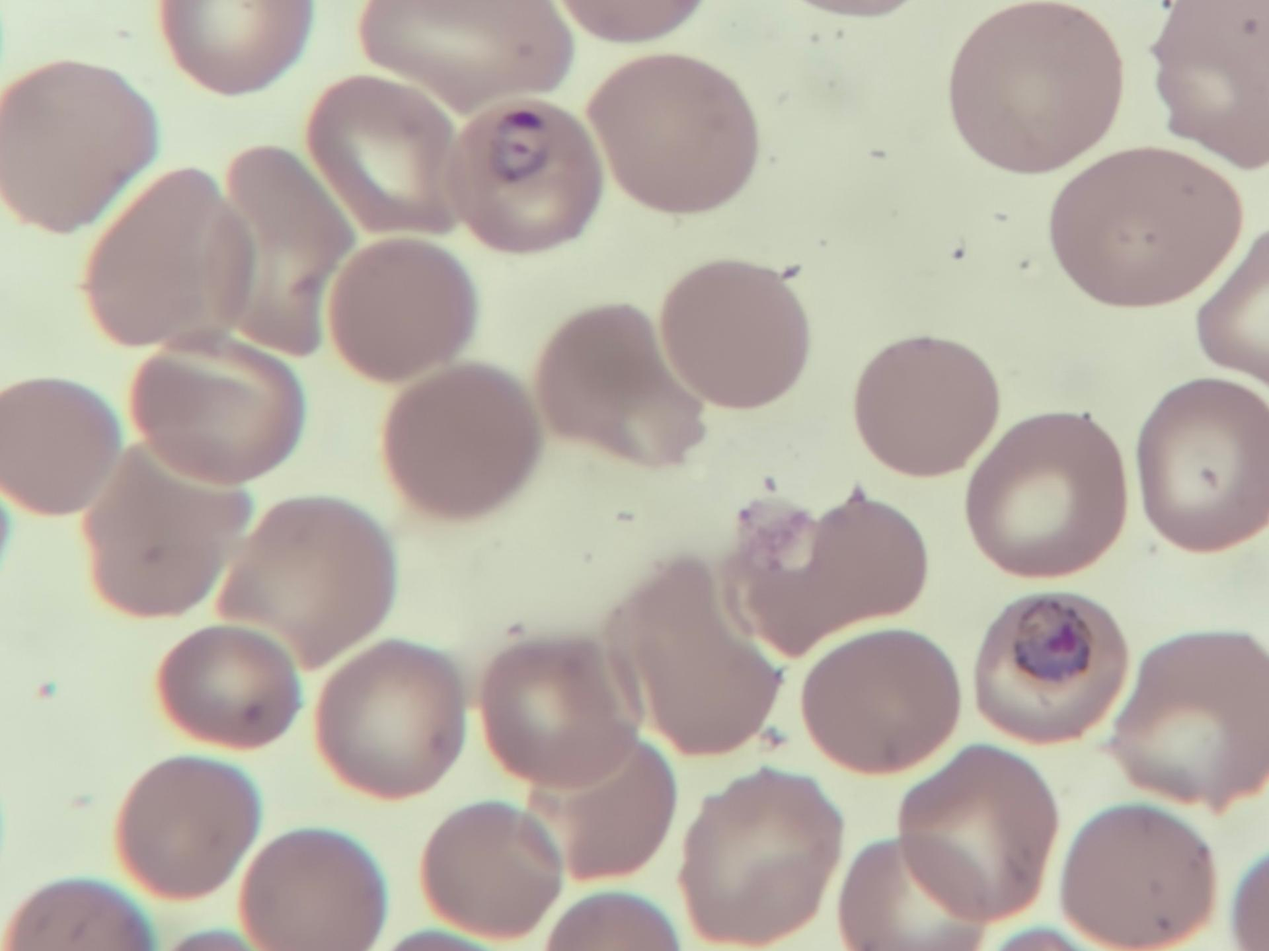Infected: (443, 96, 602, 251), (974, 591, 1127, 745)
Uninfected: (610, 559, 777, 753), (738, 494, 927, 660), (217, 496, 394, 669), (1051, 149, 1238, 308), (86, 170, 247, 348), (84, 448, 250, 617), (948, 5, 1118, 170), (1110, 634, 1269, 810), (679, 769, 841, 940), (900, 749, 1053, 925), (965, 412, 1126, 579), (533, 307, 704, 462), (222, 149, 354, 346), (1, 60, 154, 229), (129, 341, 301, 488), (307, 75, 465, 235), (381, 365, 541, 521), (595, 56, 756, 211), (1134, 382, 1269, 552), (315, 643, 464, 796), (481, 641, 637, 787), (660, 262, 811, 408), (803, 632, 958, 774), (364, 1, 566, 108), (327, 238, 479, 380), (1060, 808, 1212, 948), (115, 758, 259, 901), (853, 336, 1000, 475), (421, 805, 562, 939), (542, 742, 673, 879), (157, 625, 298, 749), (238, 831, 383, 948), (1, 380, 118, 514), (841, 845, 968, 949)
